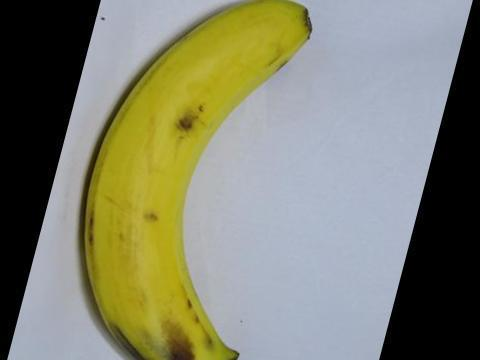freshripe: (70, 0, 321, 359)
